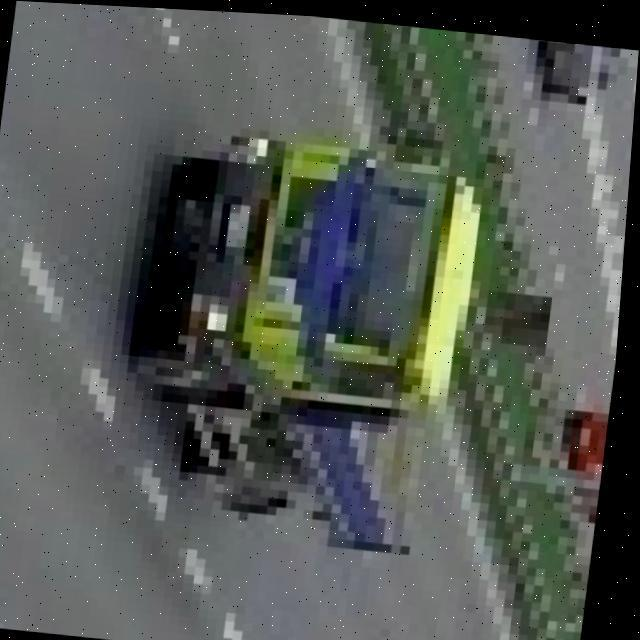truck: (126, 91, 522, 548)
